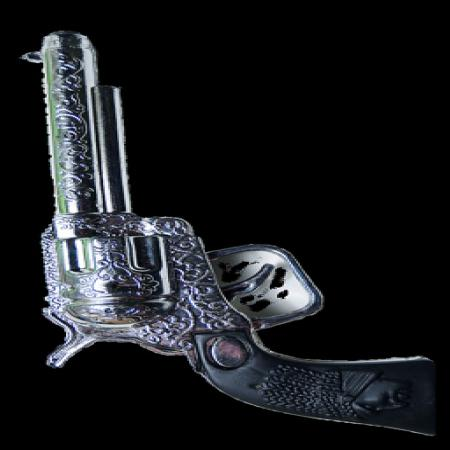Pistol: (14, 29, 432, 439)
